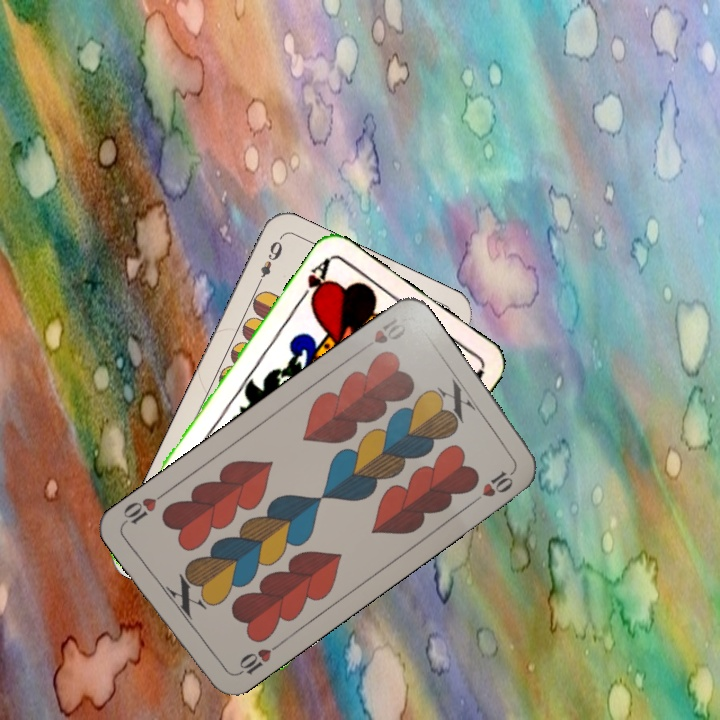E9: (252, 234, 286, 290)
H10: (356, 312, 409, 355), (231, 639, 283, 679)
HA: (293, 254, 333, 307)
